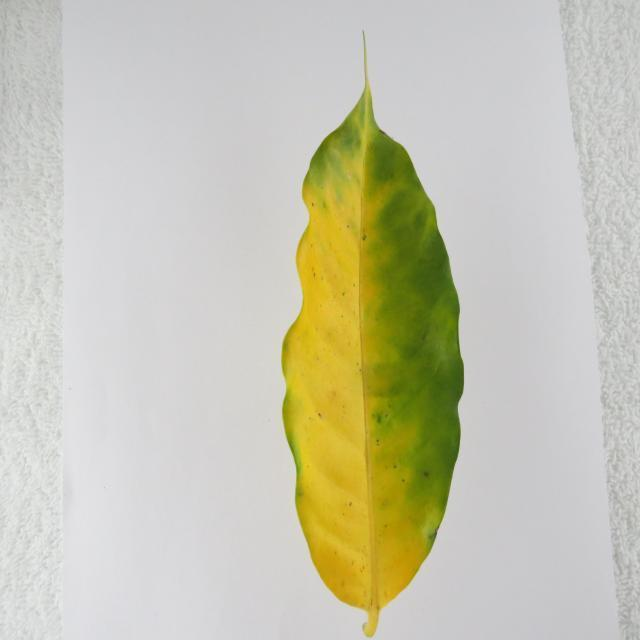DeficienciaNutricional-Nitrogeno: (284, 83, 462, 624)
